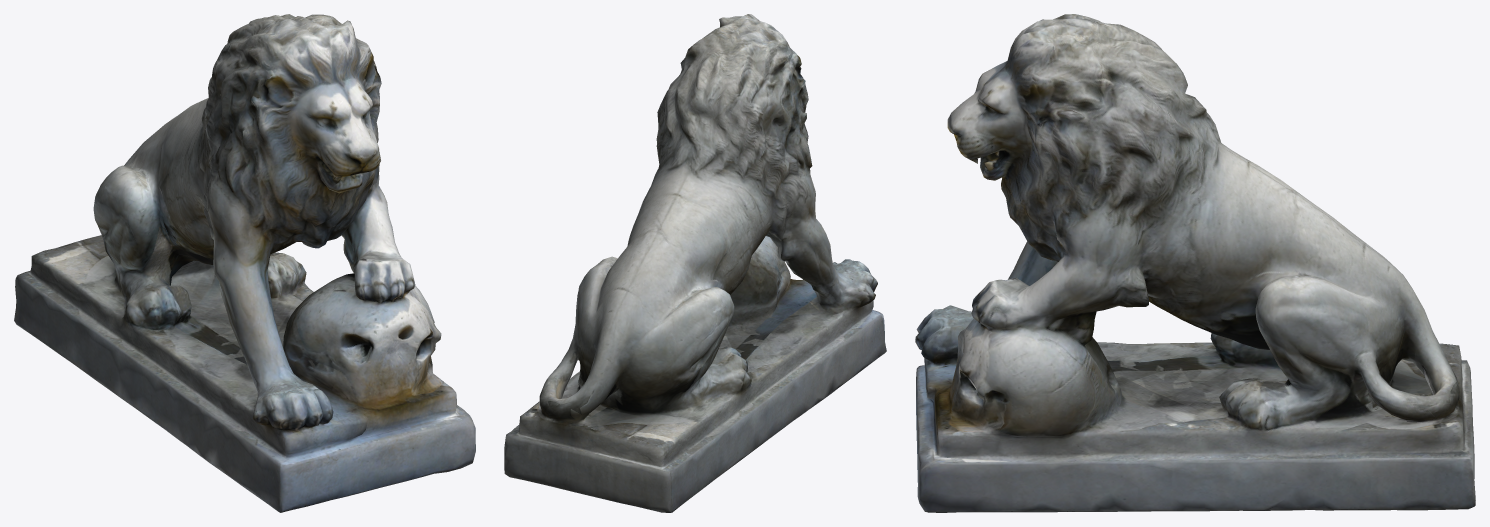
Rendered from leo.glb.
The picture shows the model from 3 angles, left to right: view 1: azimuth 30°, elevation 25°; view 2: azimuth 150°, elevation 25°; view 3: azimuth 270°, elevation 25°; orthographic projection. The views are drawn at different scales.
Visible parts, largest first — view 1: Mesh1_Mesh1.004; view 2: Mesh1_Mesh1.004; view 3: Mesh1_Mesh1.004.
Boxes of the visible parts, x1,y1,x2,y2 form: Mesh1_Mesh1.004: (14,14,475,512); Mesh1_Mesh1.004: (504,14,886,512); Mesh1_Mesh1.004: (915,14,1475,512).
Bounding box in the file's own units: 0.8847 × 1.73 × 2.
1 material, 1 textured.
